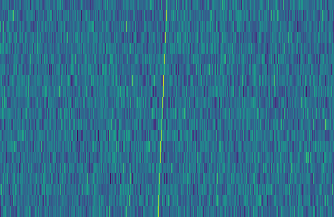signal: (153, 0, 170, 217)
